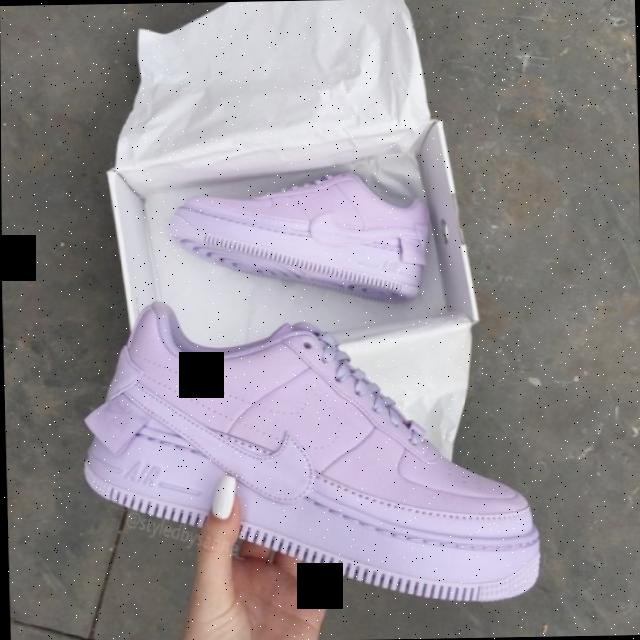shoes: (100, 309, 541, 609), (166, 160, 438, 302)
